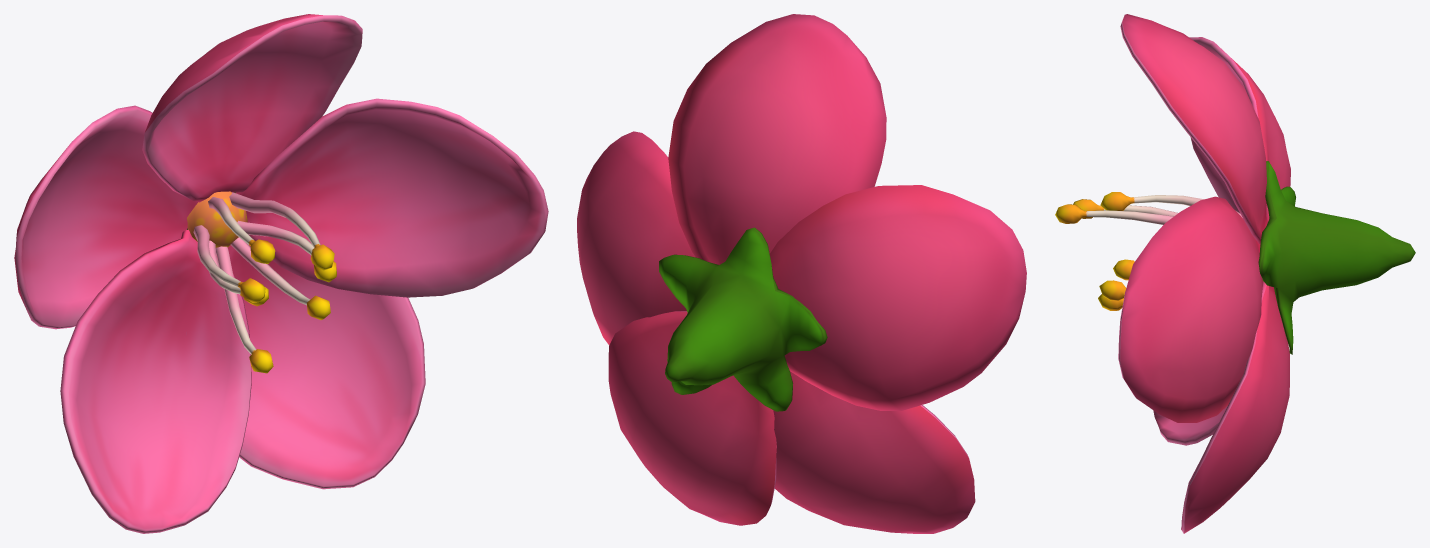
File: HuaDuo.FBX
The picture shows the model from 3 angles, left to right: view 1: azimuth 30°, elevation 25°; view 2: azimuth 150°, elevation 25°; view 3: azimuth 270°, elevation 25°; orthographic projection. The views are drawn at different scales.
Visible parts, largest first — view 1: HuaDuo; view 2: HuaDuo; view 3: HuaDuo.
Part boxes in pixels (x1,y1,x2,y2): HuaDuo: (14, 14, 548, 533); HuaDuo: (577, 14, 1026, 533); HuaDuo: (1055, 14, 1415, 533).
Bounding box in the file's own units: 107 × 106 × 73.6.
Materials: 1 (1 with a texture image).
